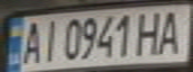0: (60, 15, 81, 61)
1: (112, 10, 136, 57)
4: (97, 11, 118, 60)
9: (78, 14, 100, 61)
A: (154, 7, 190, 55), (18, 18, 45, 65)
H: (133, 8, 166, 56)
I: (36, 16, 60, 64)
